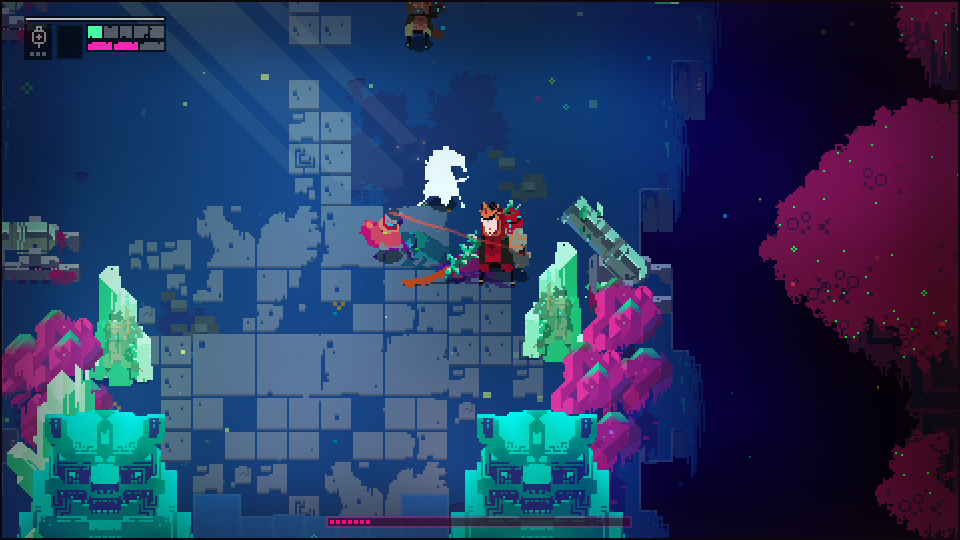hanged_man: (433, 196, 537, 286)
player: (358, 207, 407, 261)
